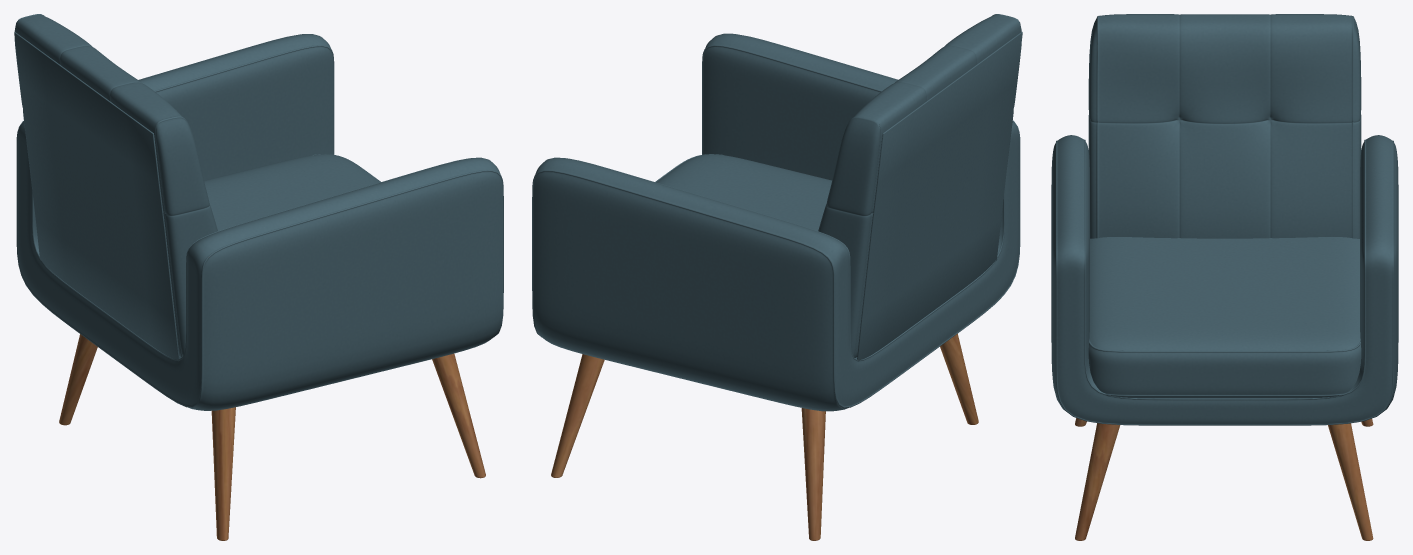
The model's file is Armchair.fbx.
3 renders of one model, left to right at view 1: azimuth 30°, elevation 25°; view 2: azimuth 150°, elevation 25°; view 3: azimuth 270°, elevation 25°, orthographic. The views are drawn at different scales.
Visible parts, largest first — view 1: Plane.001; view 2: Plane.001; view 3: Plane.001.
Part boxes in pixels (x1,y1,x2,y2): Plane.001: (14,14,503,540); Plane.001: (532,14,1022,540); Plane.001: (1051,14,1398,540).
Size of the model in its own units: 69.85 by 85.6 by 69.6.
1 material, 1 textured.
